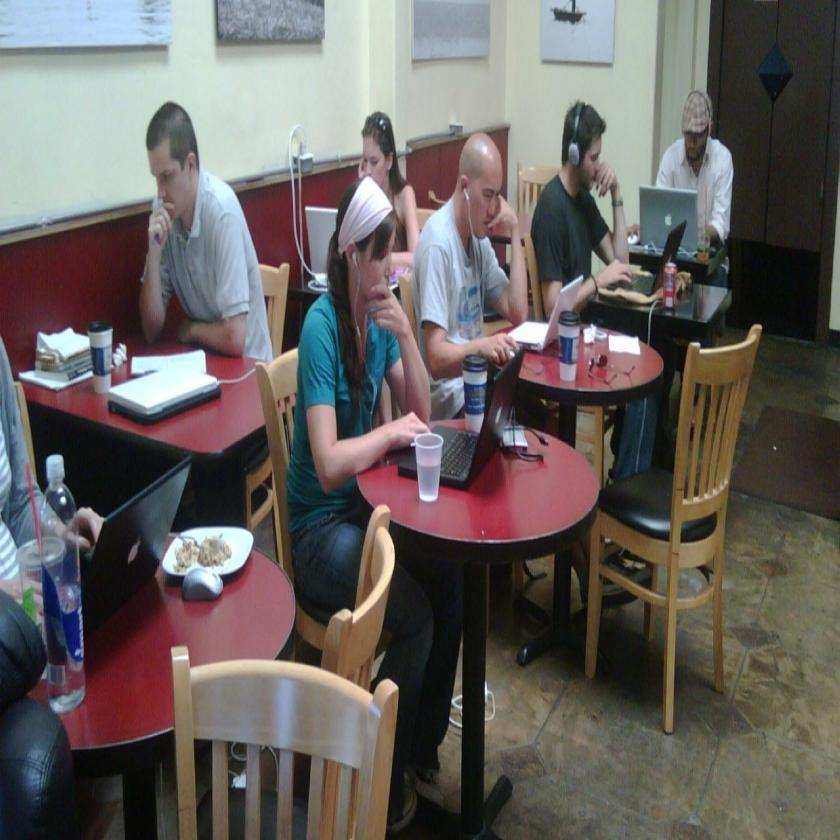Sin_casco: (331, 173, 399, 321), (142, 97, 210, 231), (452, 127, 508, 258), (562, 96, 609, 211), (359, 108, 394, 186)
